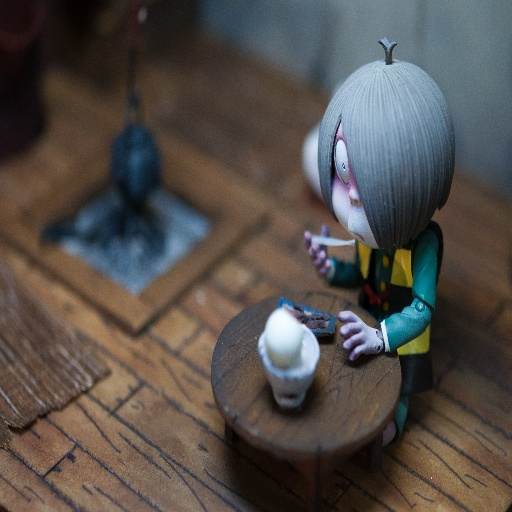hand: (341, 317, 391, 371), (303, 222, 331, 277)
